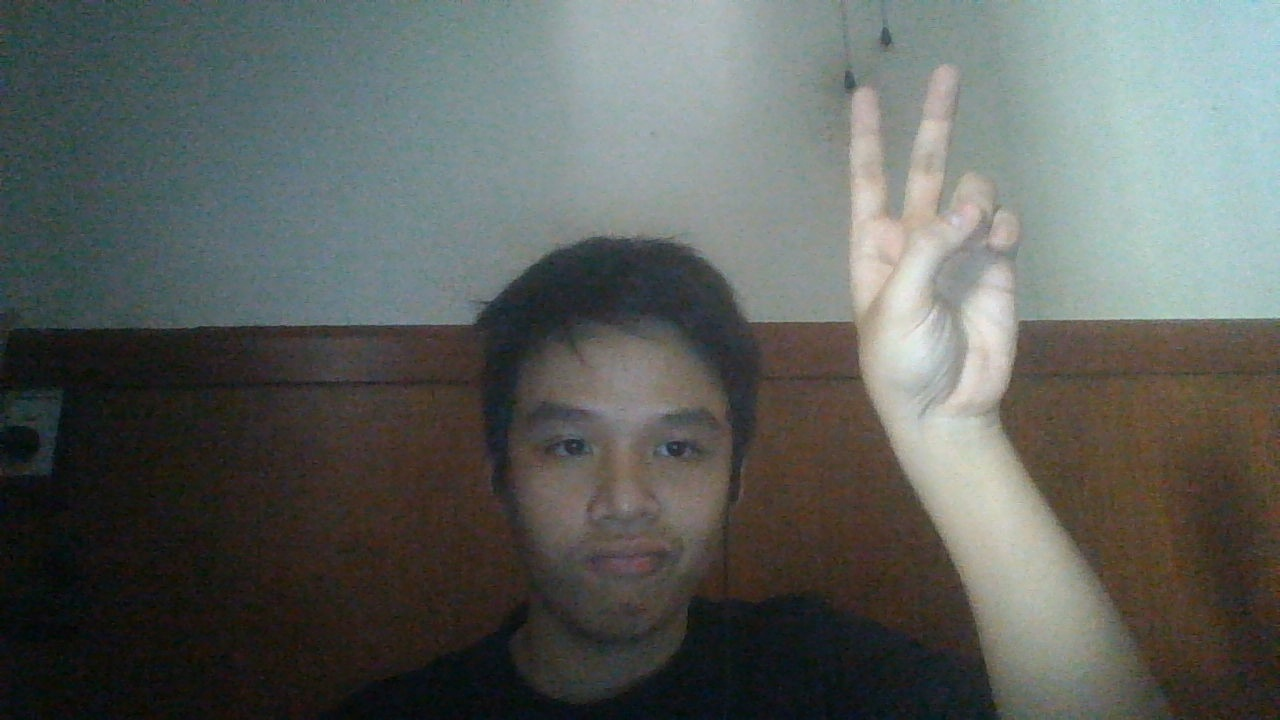wait: (845, 61, 1029, 426)
